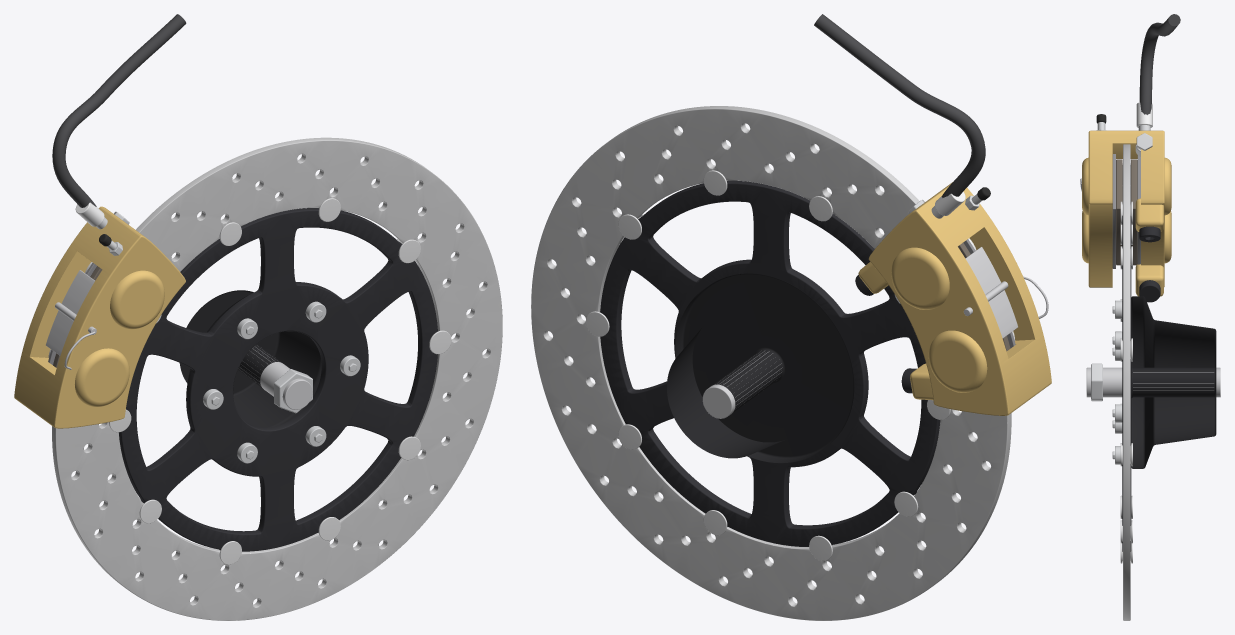
Rendered from brake.glb.
The picture shows the model from 3 angles, left to right: view 1: azimuth 30°, elevation 25°; view 2: azimuth 150°, elevation 25°; view 3: azimuth 270°, elevation 25°; orthographic projection. The views are drawn at different scales.
Visible parts, largest first — view 1: brake__disc, brake__carrier, brake__caliper, brake__hub, brake__float_buttons, brake__hose, brake__disc_bolts, brake__antirattle_spring, brake__axle; view 2: brake__disc, brake__carrier, brake__hub, brake__caliper, brake__float_buttons, brake__hose, brake__antirattle_spring, brake__caliper_lugs, brake__axle; view 3: brake__hub, brake__caliper, brake__disc, brake__hose, brake__caliper_lugs, brake__axle, brake__pads, brake__float_buttons, brake__disc_bolts, brake__carrier, brake__pad_backing, brake__mount_bolts (+3 smaller).
Part boxes in pixels (left/top/right/bottom): brake__disc: left=52, top=137, right=502, bottom=620; brake__carrier: left=118, top=208, right=437, bottom=551; brake__caliper: left=14, top=206, right=185, bottom=428; brake__hub: left=179, top=290, right=321, bottom=427; brake__float_buttons: left=109, top=198, right=451, bottom=564; brake__hose: left=52, top=14, right=186, bottom=207; brake__disc_bolts: left=203, top=301, right=360, bottom=463; brake__antirattle_spring: left=46, top=270, right=94, bottom=355; brake__axle: left=240, top=347, right=312, bottom=409; brake__disc: left=531, top=106, right=1011, bottom=620; brake__carrier: left=600, top=180, right=940, bottom=546; brake__hub: left=667, top=273, right=854, bottom=463; brake__caliper: left=868, top=182, right=1051, bottom=415; brake__float_buttons: left=585, top=170, right=950, bottom=560; brake__hose: left=814, top=14, right=985, bottom=197; brake__antirattle_spring: left=965, top=247, right=1017, bottom=338; brake__caliper_lugs: left=858, top=262, right=933, bottom=400; brake__axle: left=702, top=351, right=782, bottom=418; brake__hub: left=1131, top=296, right=1216, bottom=468; brake__caliper: left=1082, top=130, right=1171, bottom=287; brake__disc: left=1123, top=144, right=1130, bottom=620; brake__hose: left=1139, top=14, right=1180, bottom=114; brake__caliper_lugs: left=1135, top=198, right=1163, bottom=296; brake__axle: left=1086, top=367, right=1220, bottom=397; brake__pads: left=1116, top=159, right=1137, bottom=265; brake__float_buttons: left=1120, top=201, right=1132, bottom=563; brake__disc_bolts: left=1112, top=300, right=1122, bottom=464; brake__carrier: left=1122, top=215, right=1131, bottom=551; brake__pad_backing: left=1112, top=154, right=1140, bottom=268; brake__mount_bolts: left=1139, top=226, right=1160, bottom=302.
Bounding box in the file's own units: 33.4 × 40.86 × 9.42.
